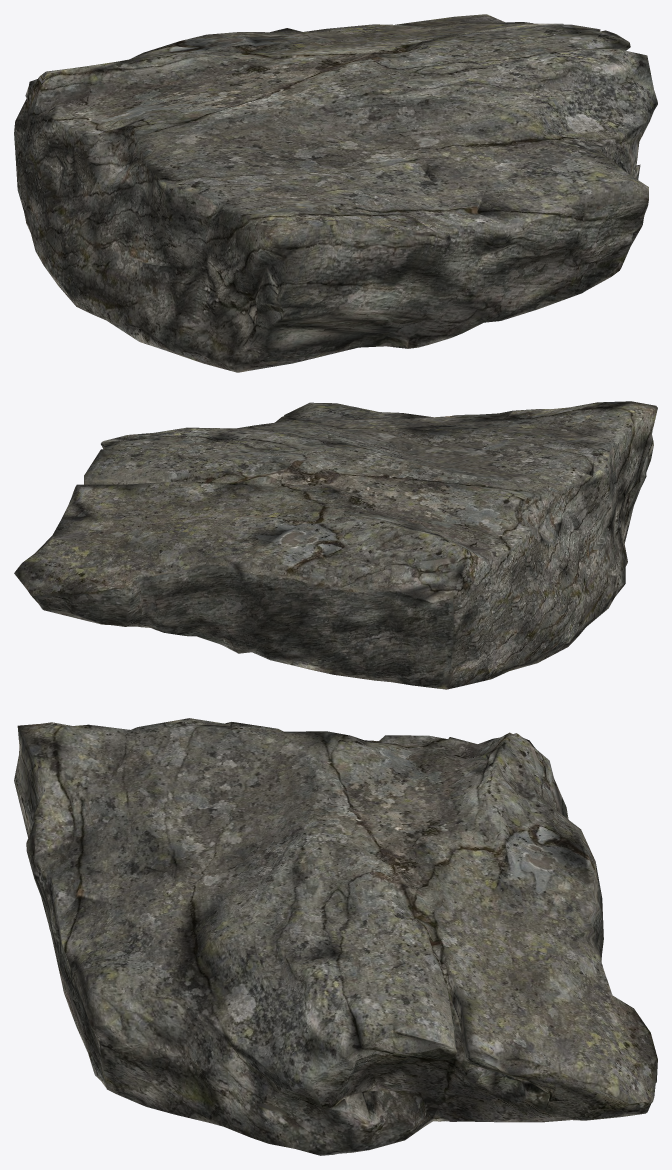
The model's file is boulder-flat.glb.
The picture shows the model from 3 angles, top to bottom: view 1: azimuth 30°, elevation 25°; view 2: azimuth 150°, elevation 25°; view 3: azimuth 270°, elevation 25°; orthographic projection. The views are drawn at different scales.
Visible parts, largest first — view 1: vivvbcnaw_LOD0_TIER0_000; view 2: vivvbcnaw_LOD0_TIER0_000; view 3: vivvbcnaw_LOD0_TIER0_000.
Part boxes in pixels (x1,y1,x2,y2): vivvbcnaw_LOD0_TIER0_000: [14, 14, 657, 372]; vivvbcnaw_LOD0_TIER0_000: [14, 401, 657, 689]; vivvbcnaw_LOD0_TIER0_000: [14, 718, 657, 1155].
Bounding box in the file's own units: 3 × 0.923 × 2.74.
Materials: 1 (1 with a texture image).
